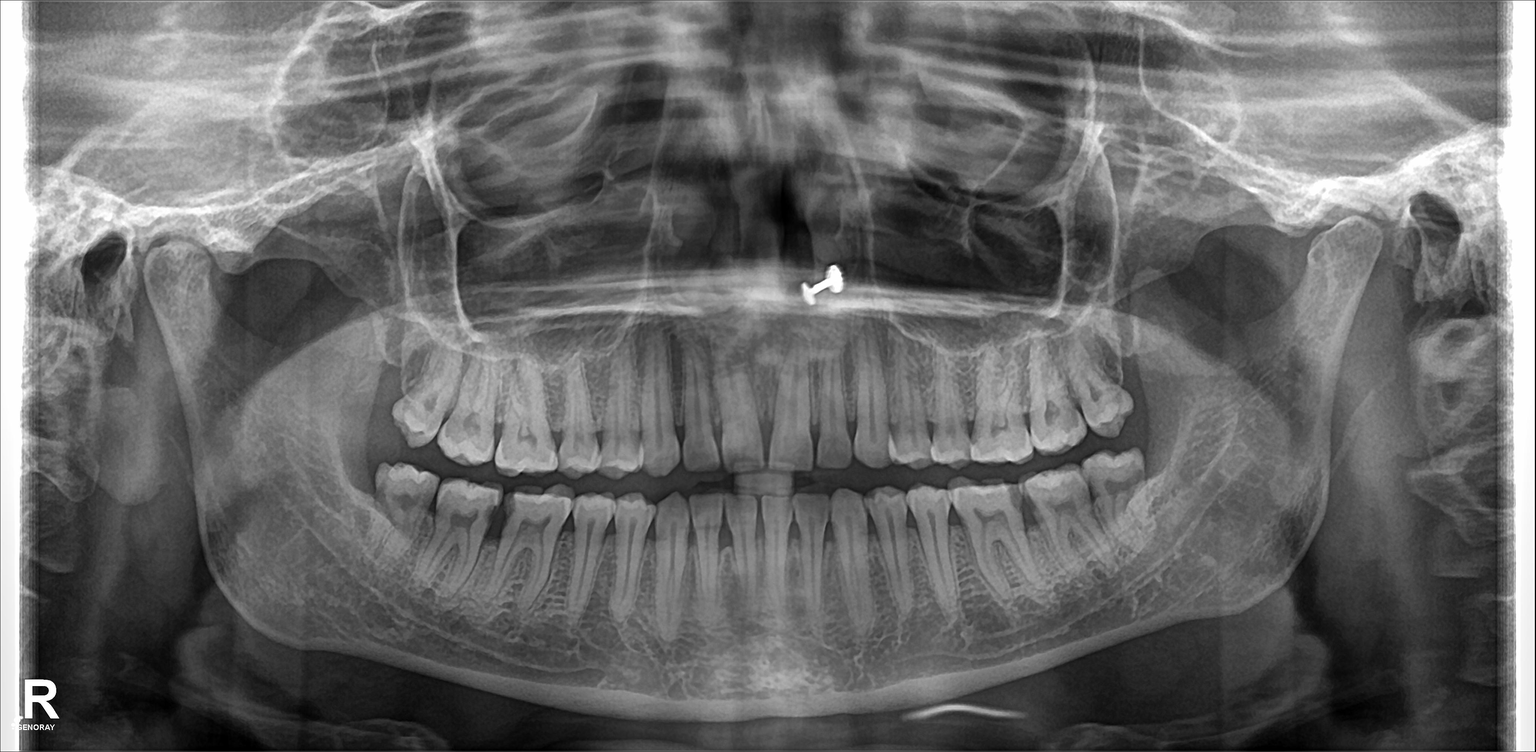Dental Caries: (480, 503, 510, 547)
Impacted Third Molar: (363, 469, 435, 565)
Missing Tooth: (1114, 322, 1161, 431), (359, 337, 402, 447)
